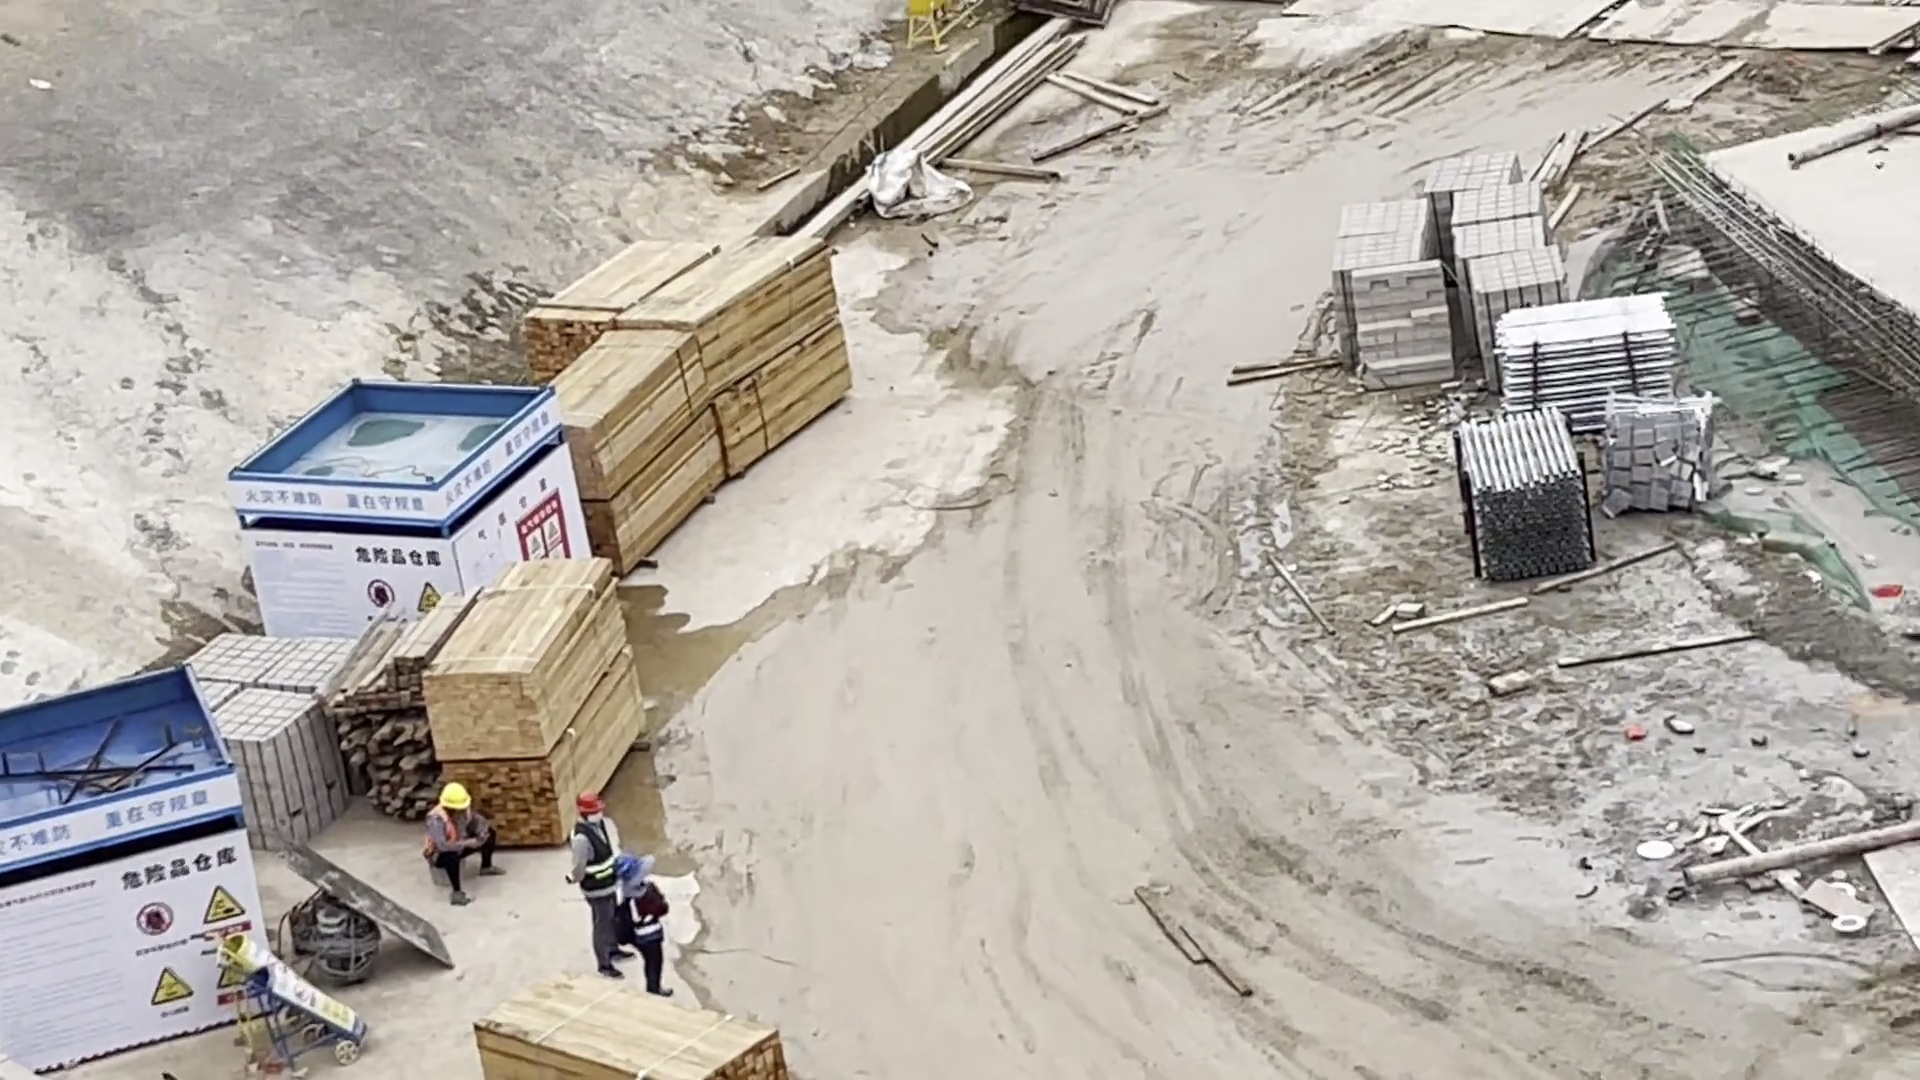brick: (195, 634, 345, 849), (1429, 152, 1558, 386), (1330, 198, 1455, 387)
helmet: (440, 782, 471, 811), (574, 789, 606, 812), (614, 854, 639, 880)
person: (563, 788, 640, 980), (421, 779, 509, 907), (612, 851, 676, 997)
scaffold: (1498, 291, 1673, 427), (1458, 408, 1590, 580)
slogan: (1, 769, 233, 872), (231, 477, 441, 524)
vest: (571, 818, 615, 892), (425, 806, 472, 865), (622, 896, 664, 943)
wood: (525, 241, 851, 478), (427, 559, 648, 847), (552, 331, 725, 574), (475, 973, 787, 1080), (341, 603, 438, 821)
